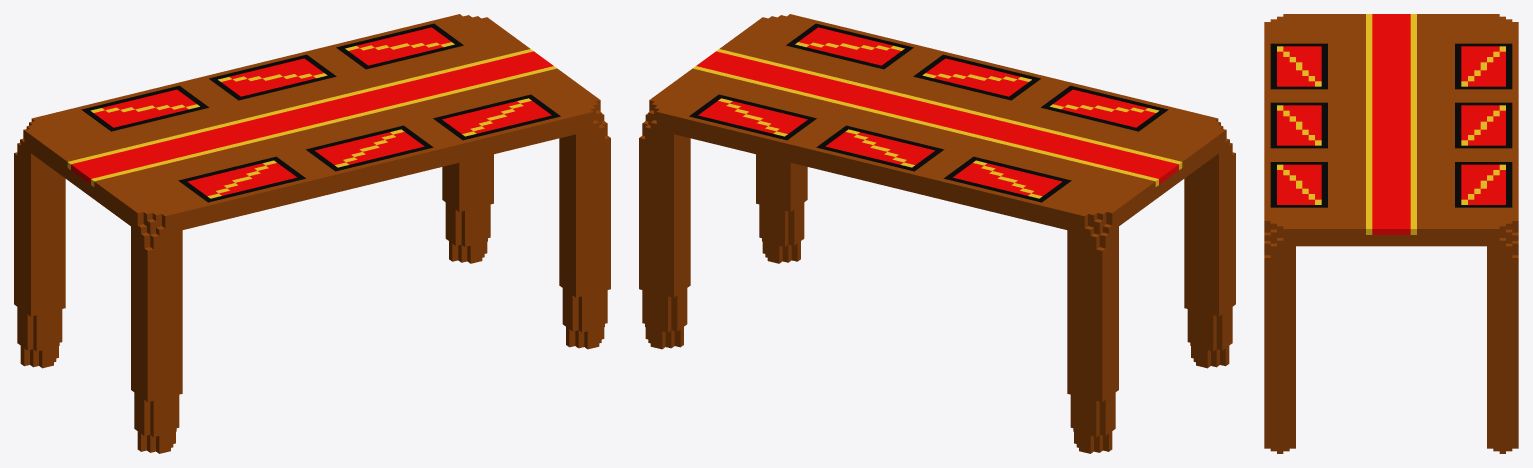
The model's file is Table.obj.
3 views of the same model, side by side, from view 1: azimuth 30°, elevation 25°; view 2: azimuth 150°, elevation 25°; view 3: azimuth 270°, elevation 25° (orthographic). The views are drawn at different scales.
Bounding box in the file's own units: 8 × 3.9 × 4.
Materials: 1 (1 with a texture image).
